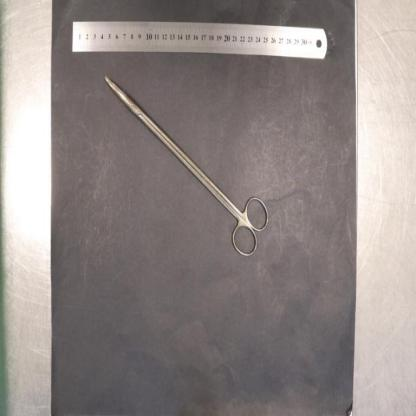9 Metzenbaum Scissors: (104, 76, 270, 258)
